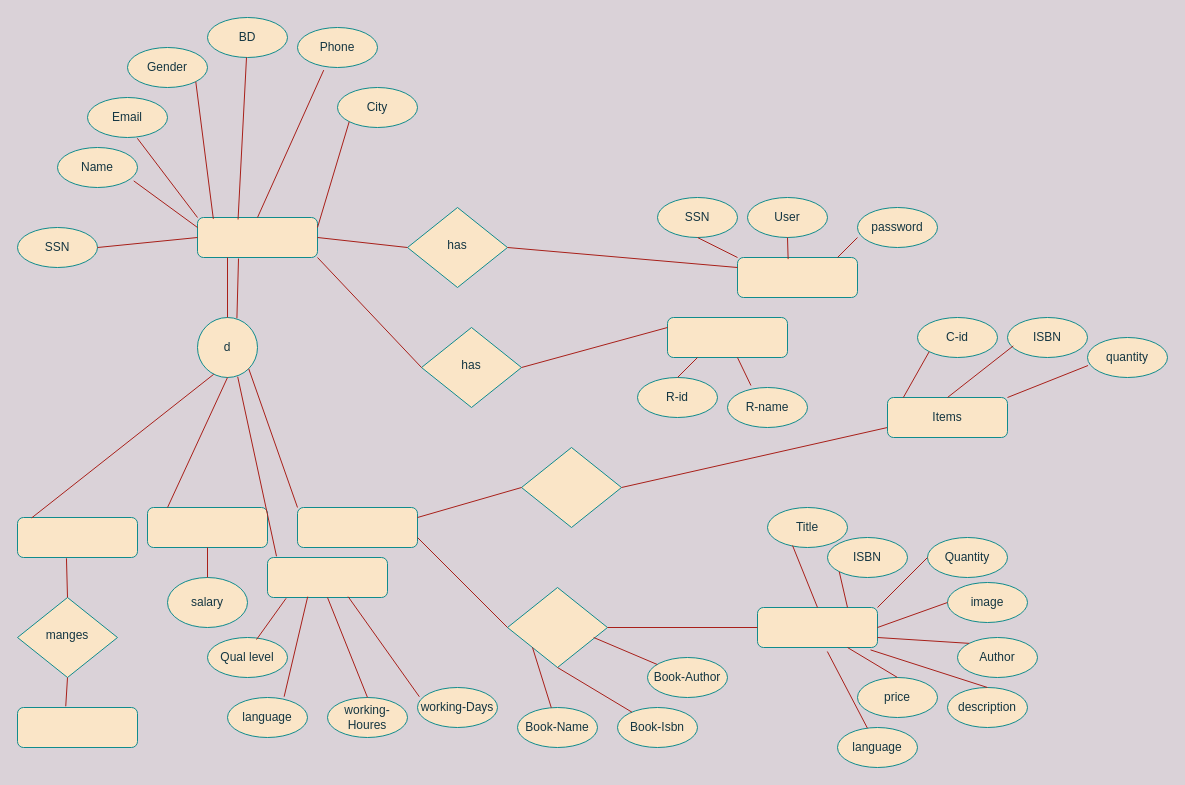
Some shapes in this 1185 by 785 pixel diagram are drawn without their labels. The centre of each missing label's shape, as x and y in pixels:
"Account" belongs at point 797,277.
"Applicant" belongs at point 327,577.
"Books" belongs at point 817,627.
"Buy" belongs at point 571,487.
"Customer" belongs at point 357,527.
"Employee" belongs at point 207,527.
"Manager" belongs at point 77,537.
"Person" belongs at point 257,237.
"project" belongs at point 77,727.
"Role" belongs at point 727,337.
"Suggest" belongs at point 557,627.
